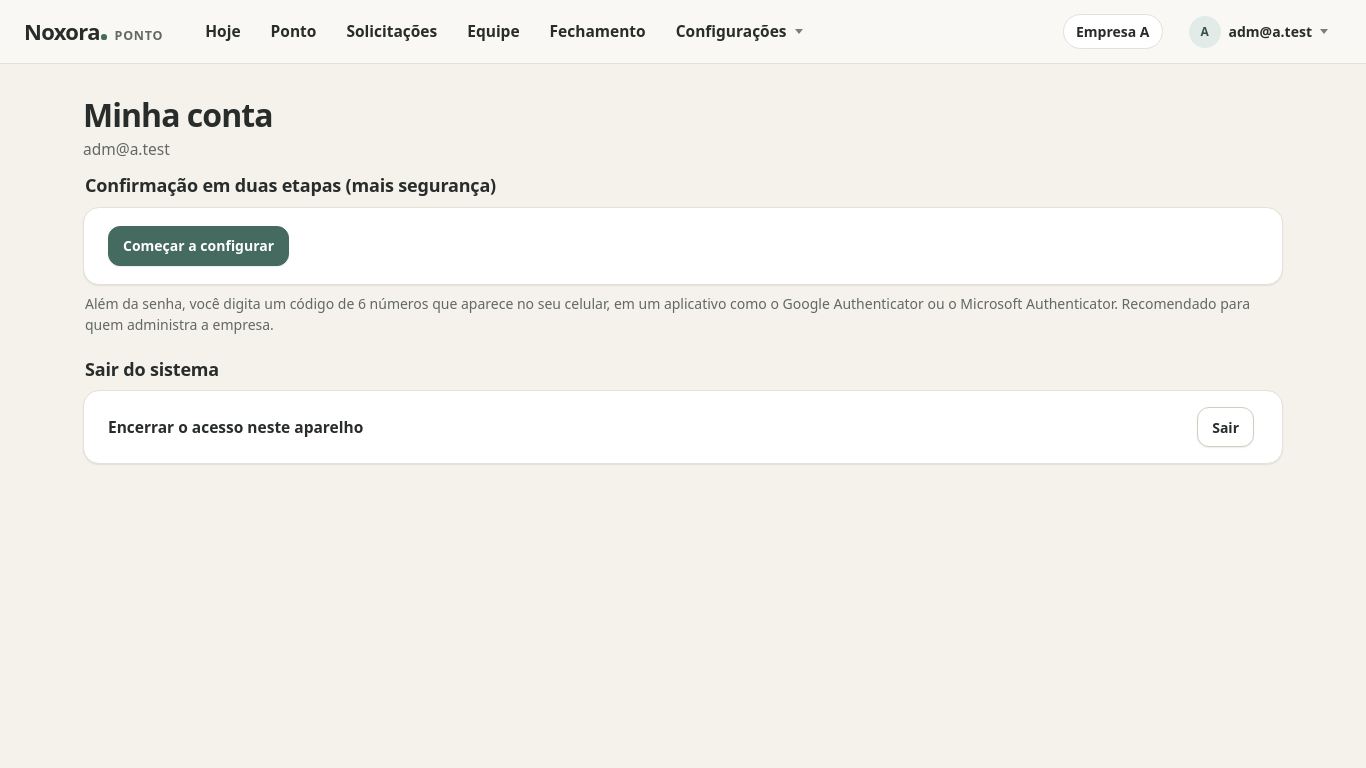
Test case: Conta: operações sensíveis › pede a senha de novo quando o servidor exige login recente e repete a ação
The image size is (1366, 768).
Click the button "Começar a configurar" at (198, 246), box [108, 226, 289, 266]
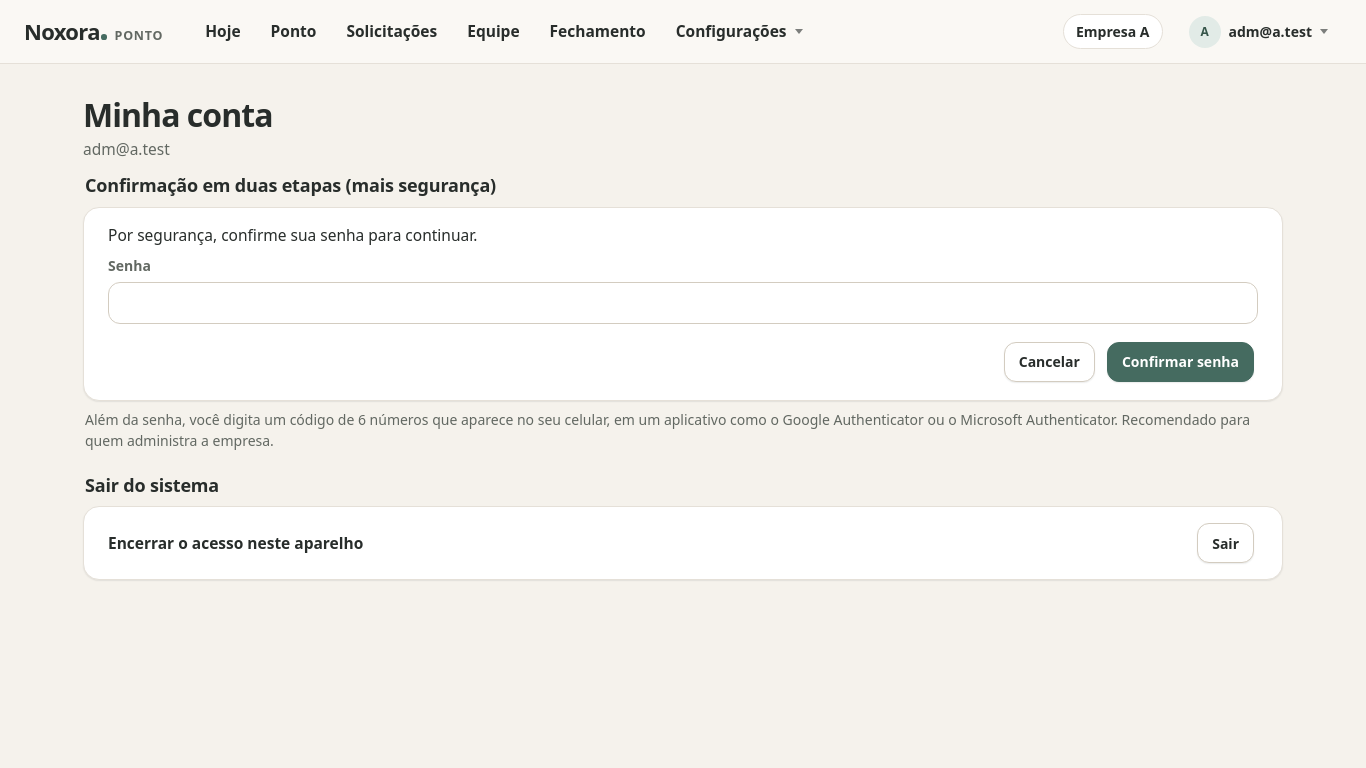
Type "senha-longa-123" into the password field labelled "Senha" at (683, 303), box [108, 282, 1258, 324]
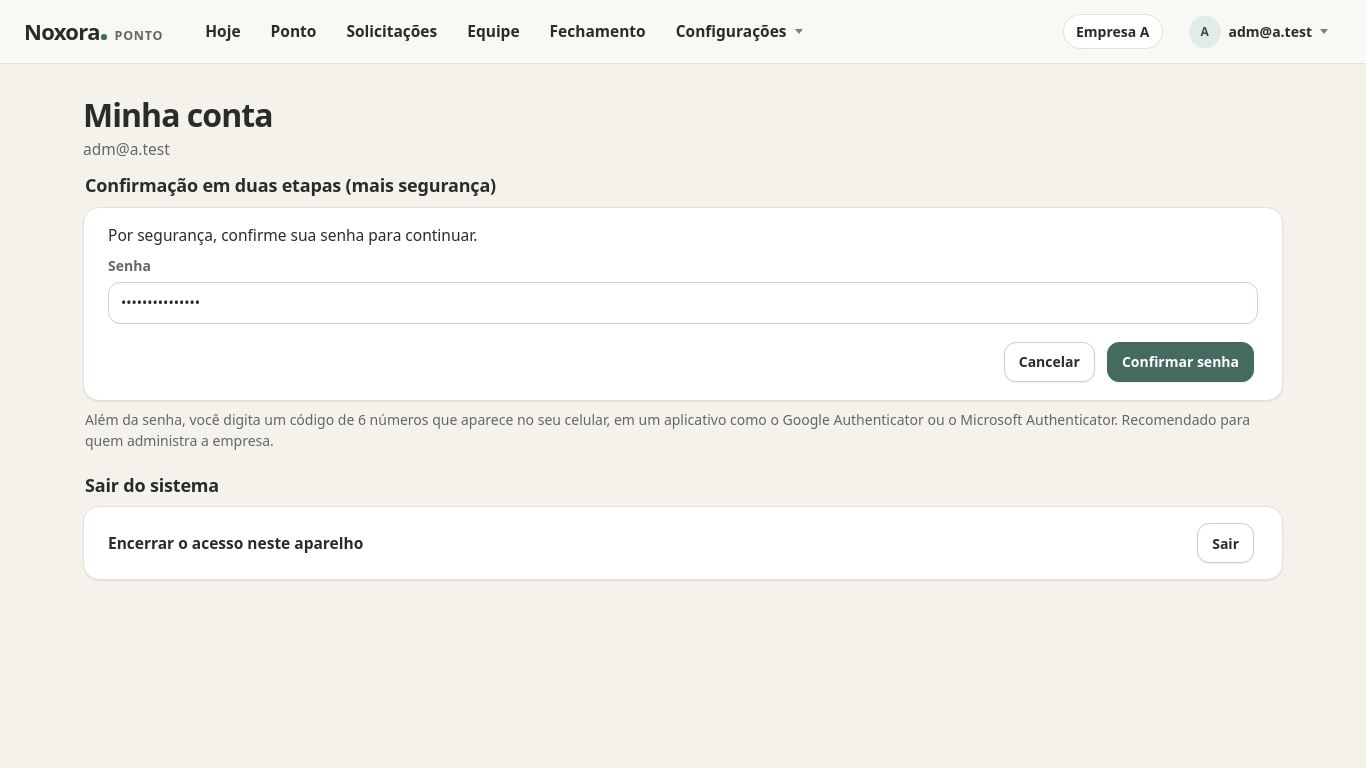
Click the button "Confirmar senha" at (1180, 362), box [1107, 342, 1254, 382]
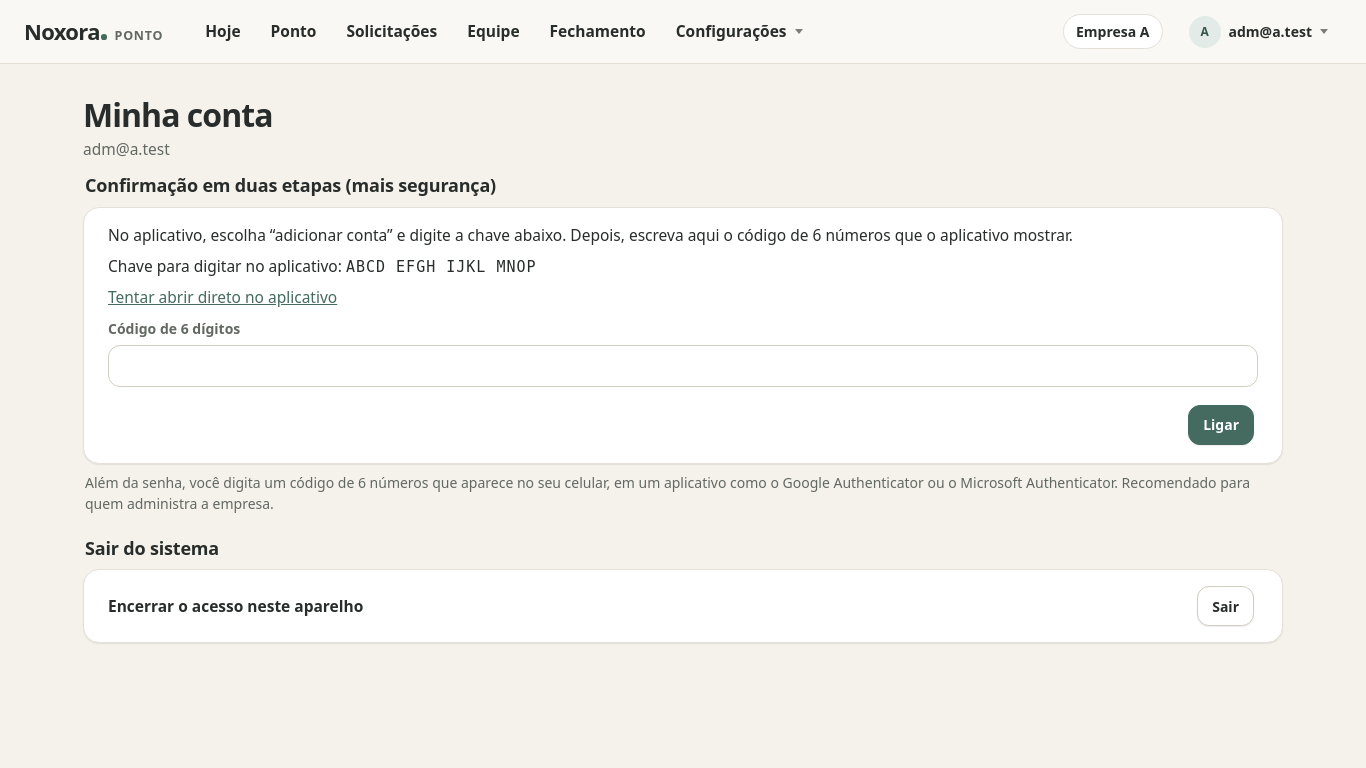
Check: the text "Chave para digitar no aplicativo: ABCD EFGH IJKL MNOP" is shown, box [108, 255, 536, 277]
